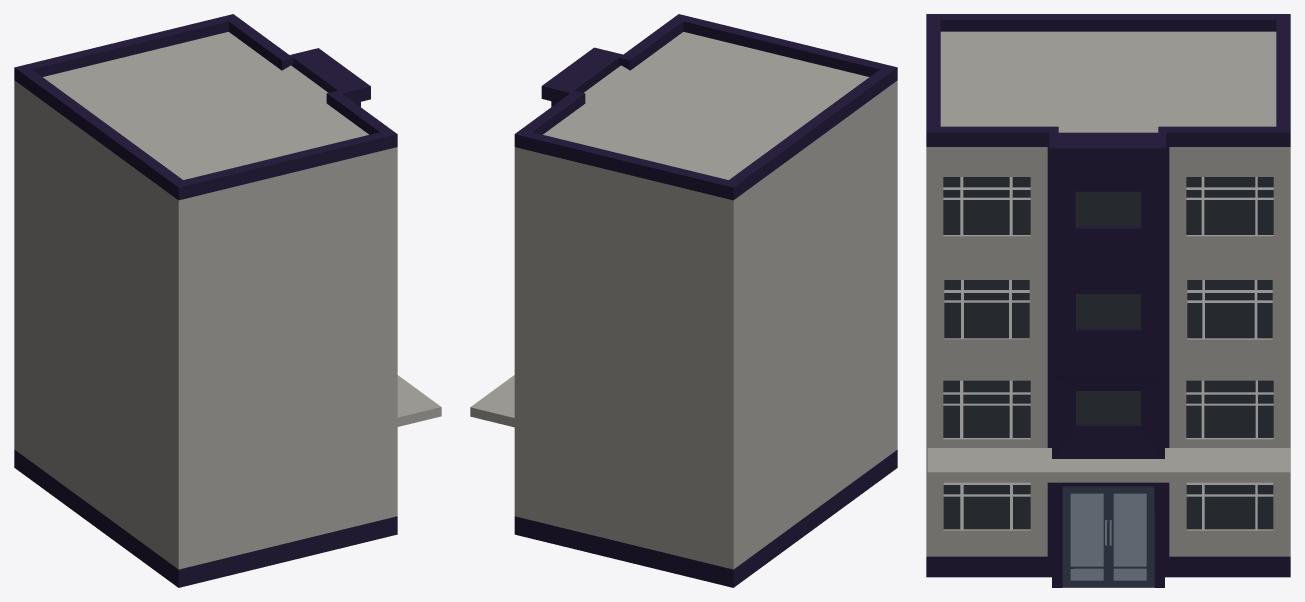
The model's file is Building_PanelSmall_Purple.fbx.
3 renders of one model, left to right at view 1: azimuth 30°, elevation 25°; view 2: azimuth 150°, elevation 25°; view 3: azimuth 270°, elevation 25°, orthographic. The views are drawn at different scales.
Visible parts, largest first — view 1: Cube; view 2: Cube; view 3: Cube.
Part boxes in pixels (x1,y1,x2,y2): Cube: (14, 14, 441, 587); Cube: (470, 14, 897, 587); Cube: (926, 14, 1290, 587).
Size of the model in its own units: 770 by 1118 by 831.
